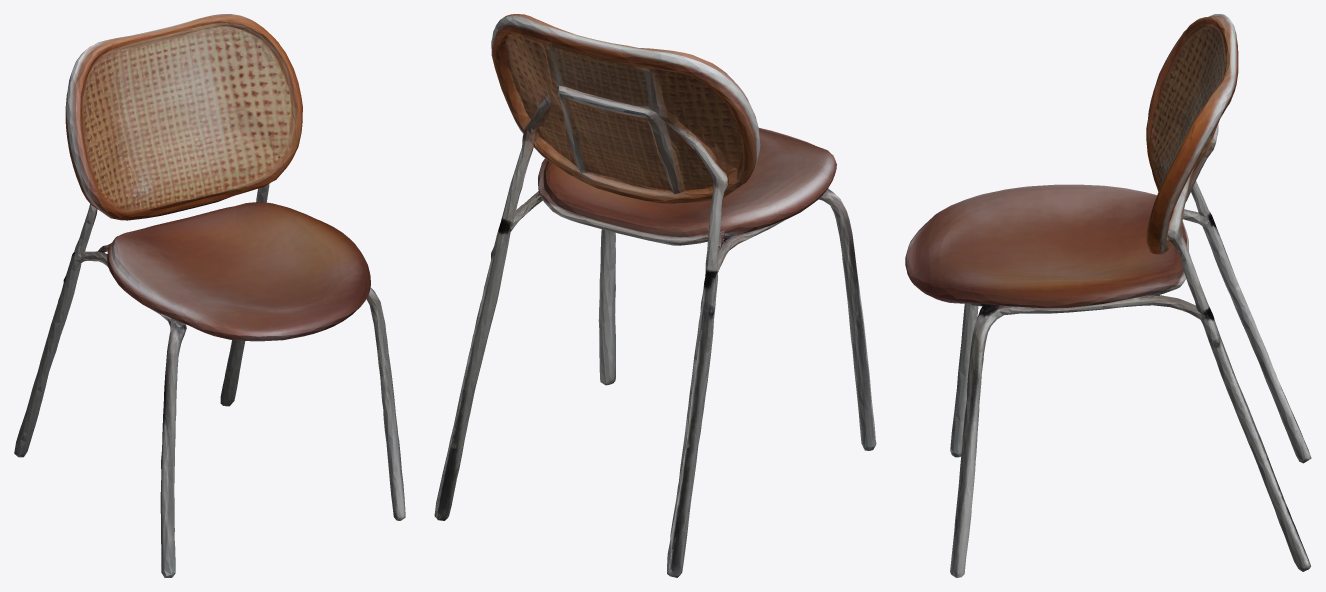
The model's file is ast_4fb74f9d26fa.glb.
The picture shows the model from 3 angles, left to right: view 1: azimuth 30°, elevation 25°; view 2: azimuth 150°, elevation 25°; view 3: azimuth 270°, elevation 25°; orthographic projection. The views are drawn at different scales.
Parts seen in each view (by area): view 1: geometry_0; view 2: geometry_0; view 3: geometry_0.
Part boxes in pixels (x1,y1,x2,y2): geometry_0: (14,14,405,577); geometry_0: (434,14,876,577); geometry_0: (905,14,1311,577).
Bounding box in the file's own units: 0.478 × 0.8077 × 0.6399.
Materials: 1 (1 with a texture image).
